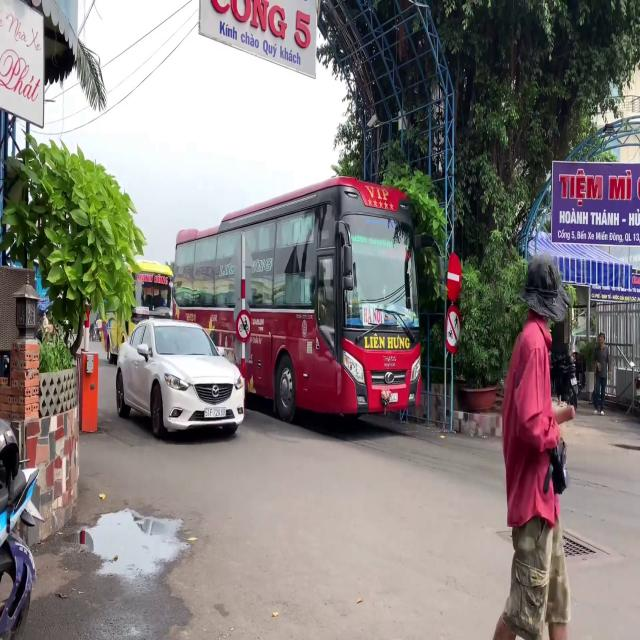bien_trang: (204, 407, 226, 418)
